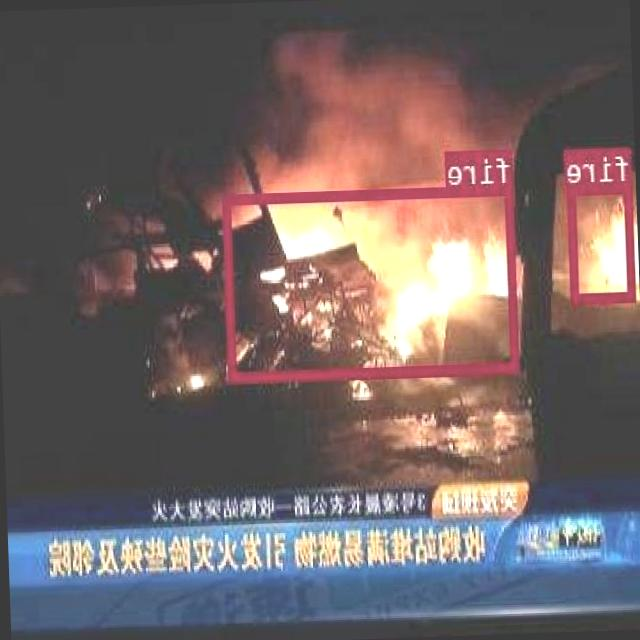fire: (223, 182, 520, 380), (569, 182, 637, 302)
